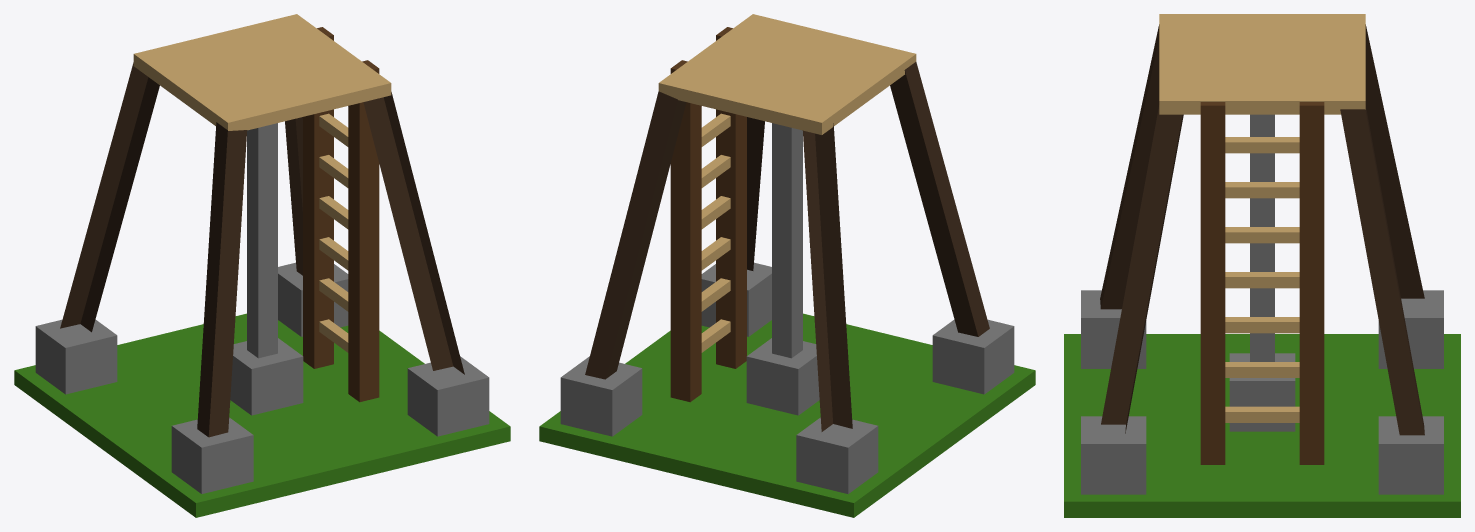
Rendered from lvl5.glb.
The picture shows the model from 3 angles, left to right: view 1: azimuth 30°, elevation 25°; view 2: azimuth 150°, elevation 25°; view 3: azimuth 270°, elevation 25°; orthographic projection. The views are drawn at different scales.
Visible parts, largest first — view 1: Plane.004; view 2: Plane.004; view 3: Plane.004.
Boxes of the visible parts, x1,y1,x2,y2 form: Plane.004: (14, 14, 510, 517); Plane.004: (539, 14, 1035, 517); Plane.004: (1064, 14, 1460, 517).
Bounding box in the file's own units: 4 × 4.19 × 4.
